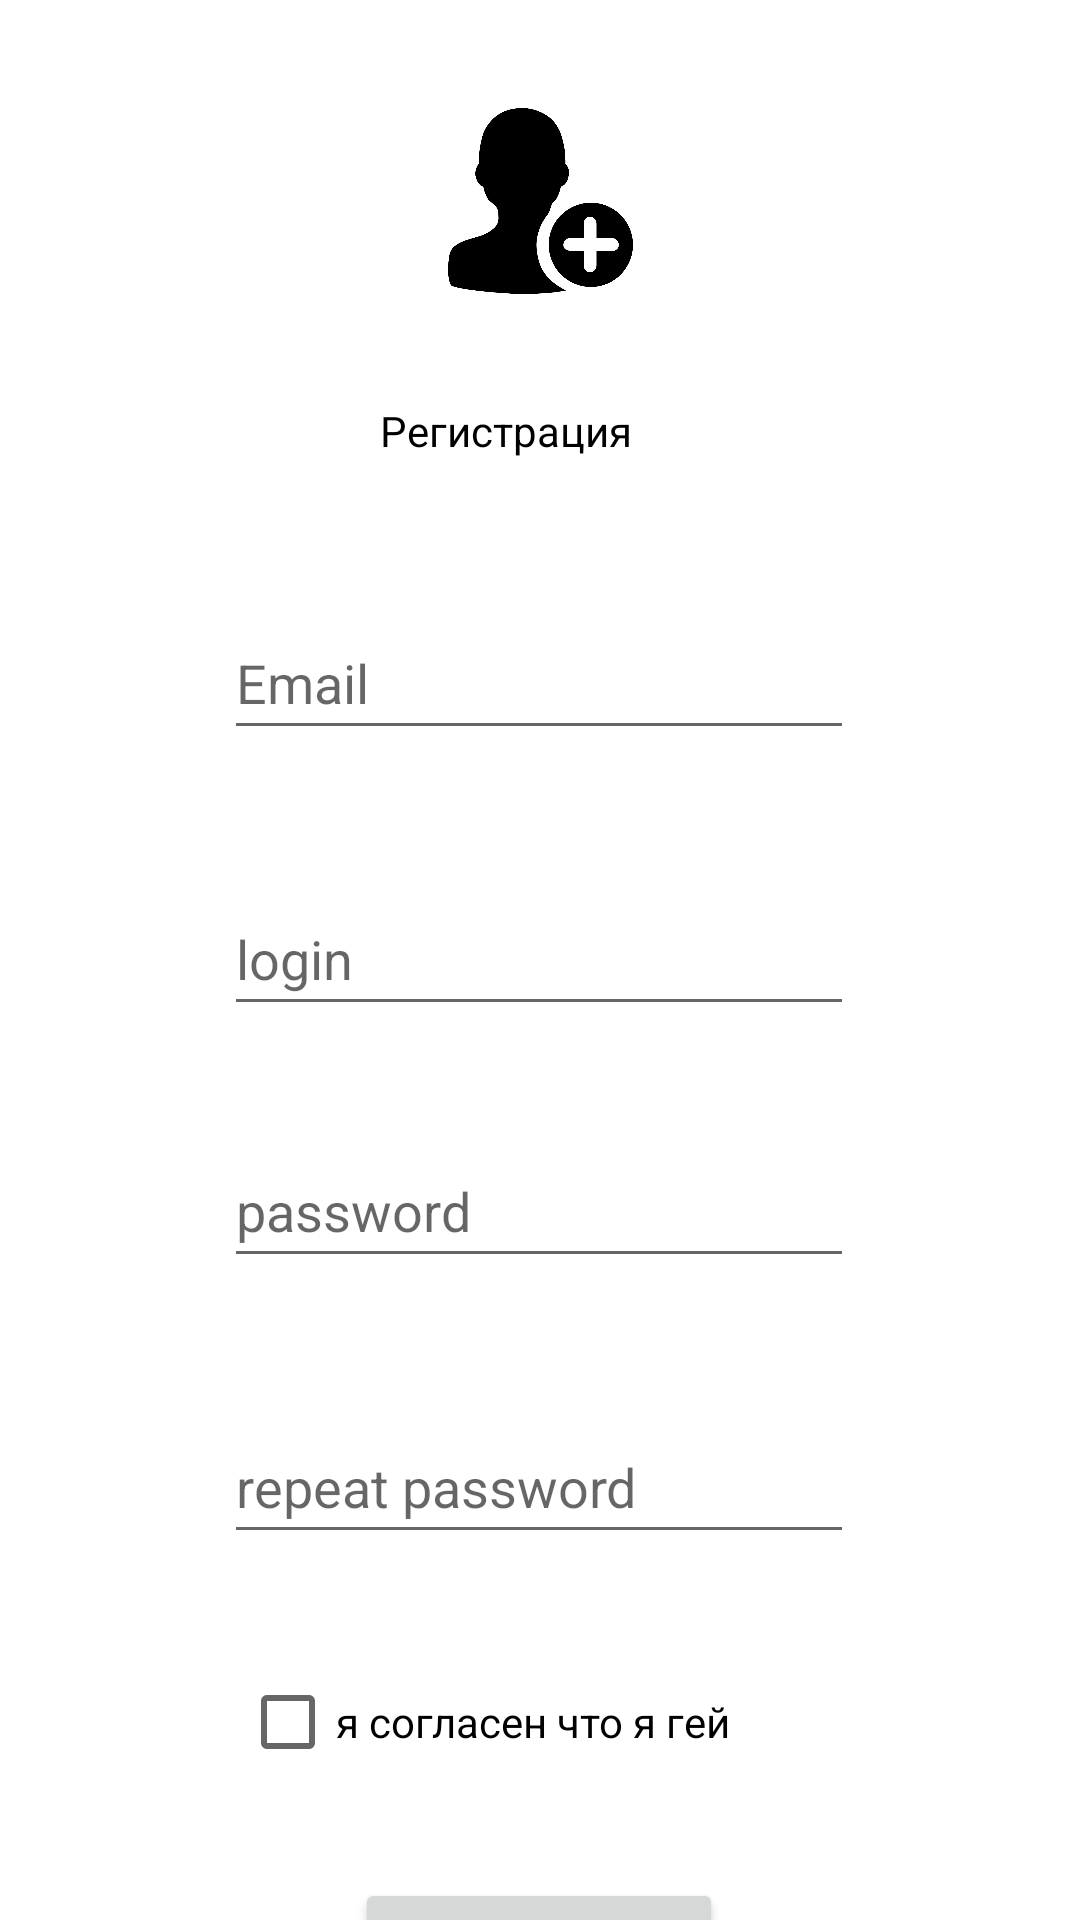

Named icons in this screenshot (1080px×1920px) and their bounding boxes, (x1, y1, x2, y2):
reg: (448, 108, 633, 294)
